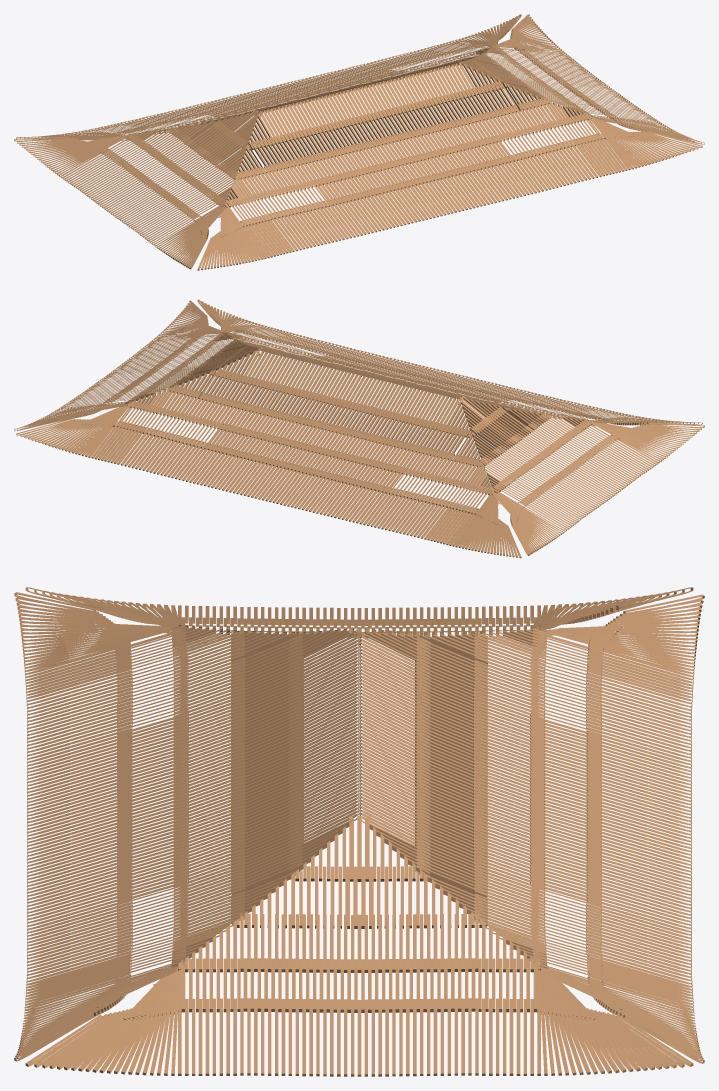
3 renders of one model, top to bottom at view 1: azimuth 30°, elevation 25°; view 2: azimuth 150°, elevation 25°; view 3: azimuth 270°, elevation 25°, orthographic. The views are drawn at different scales.
Parts seen in each view (by area): view 1: Layer_3; view 2: Layer_3; view 3: Layer_3.
Part boxes in pixels (x1,y1,x2,y2): Layer_3: (14,14,704,270); Layer_3: (14,299,704,558); Layer_3: (14,587,704,1076).
Size of the model in its own units: 10 by 1.22 by 6.13.
